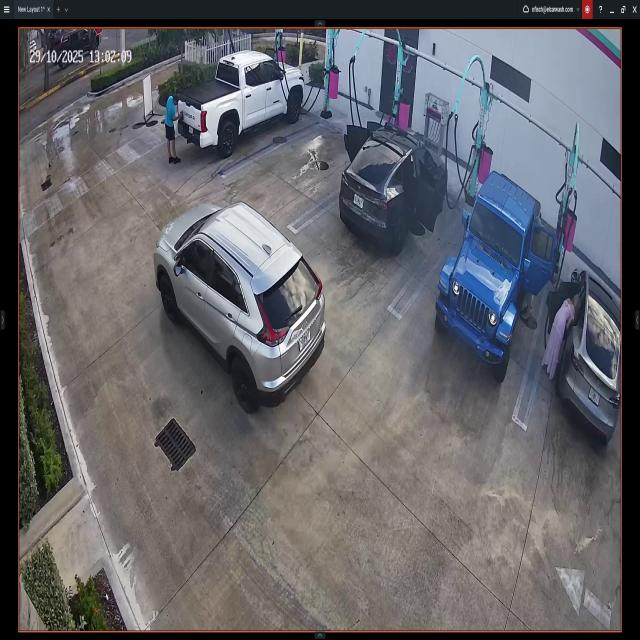Car: (152, 198, 329, 406), (434, 180, 556, 380), (344, 123, 448, 254), (176, 54, 303, 158), (562, 267, 620, 439)
